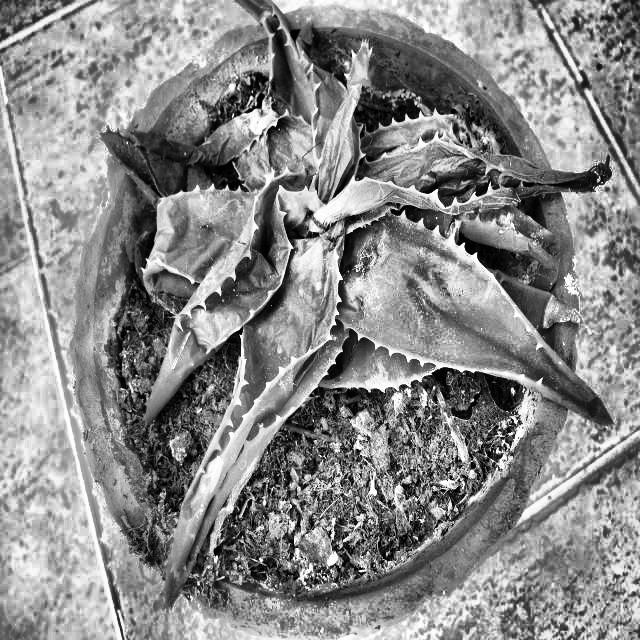plants: (102, 81, 586, 616)
